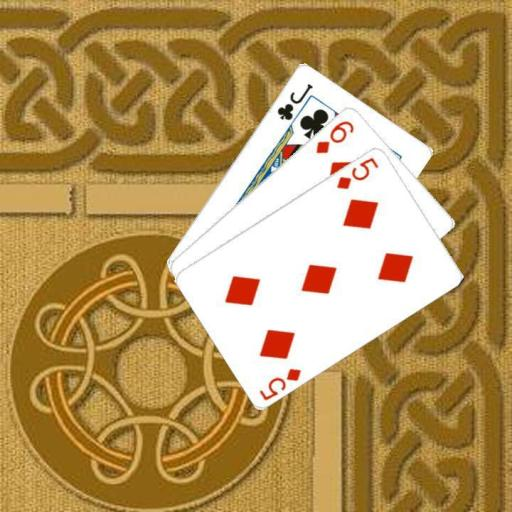card-corner: (256, 364, 303, 402), (273, 80, 314, 122), (334, 154, 380, 190), (313, 117, 355, 155)
